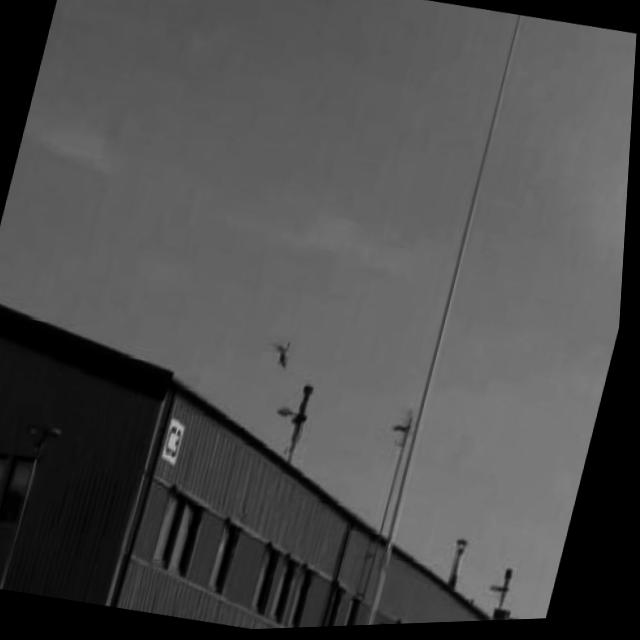helikopter: (269, 334, 303, 375)
